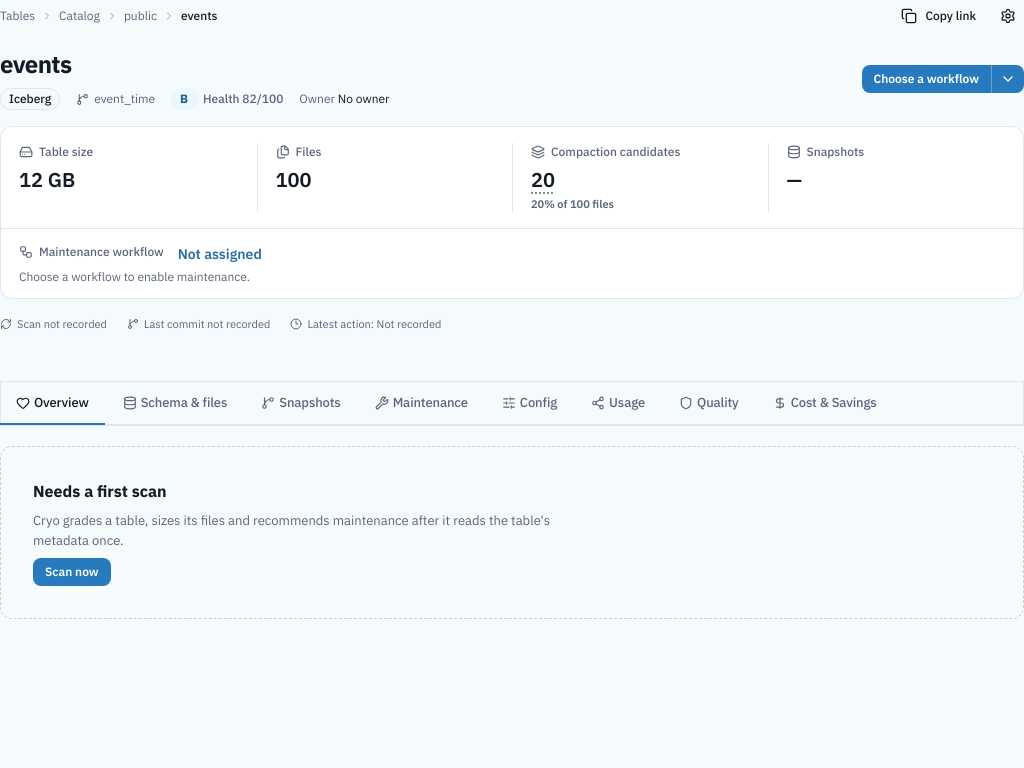
Scenario: TableDetail page › disables Run maintenance when no preset is assigned
The image size is (1024, 768).
Expected: the heading "events" is shown, [0,48,72,80]
Click the button named "More actions": (1008, 79) [991,65,1023,93]
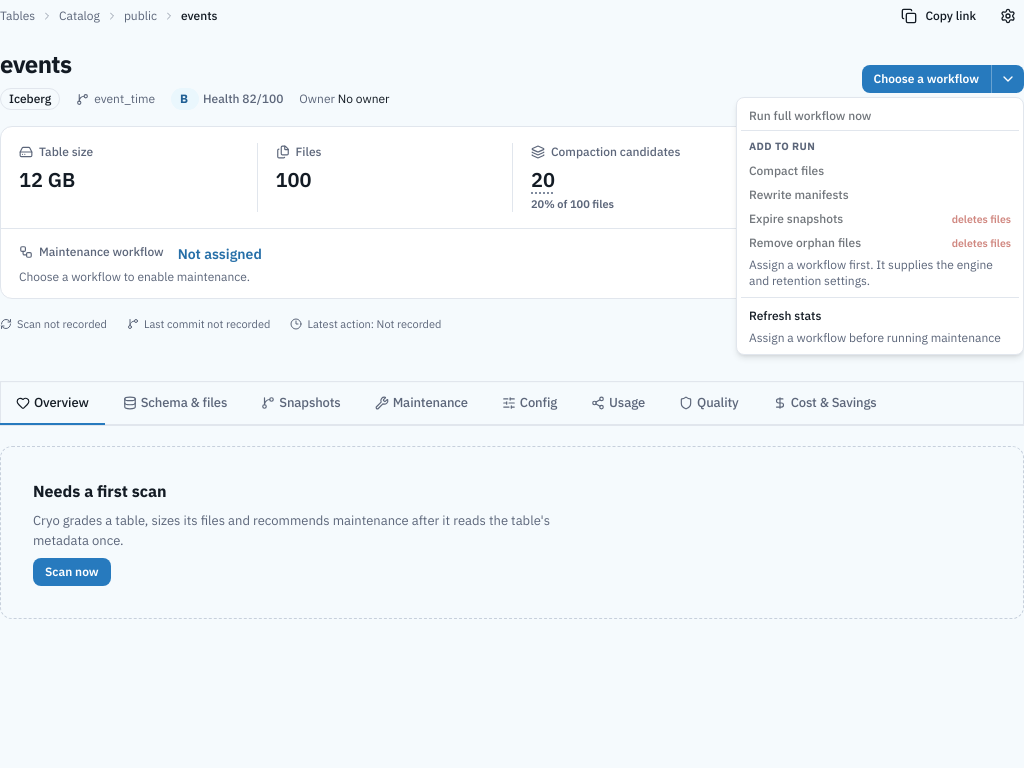
Now the button "Run full workflow now" is disabled, box [741,108,1019,124]
